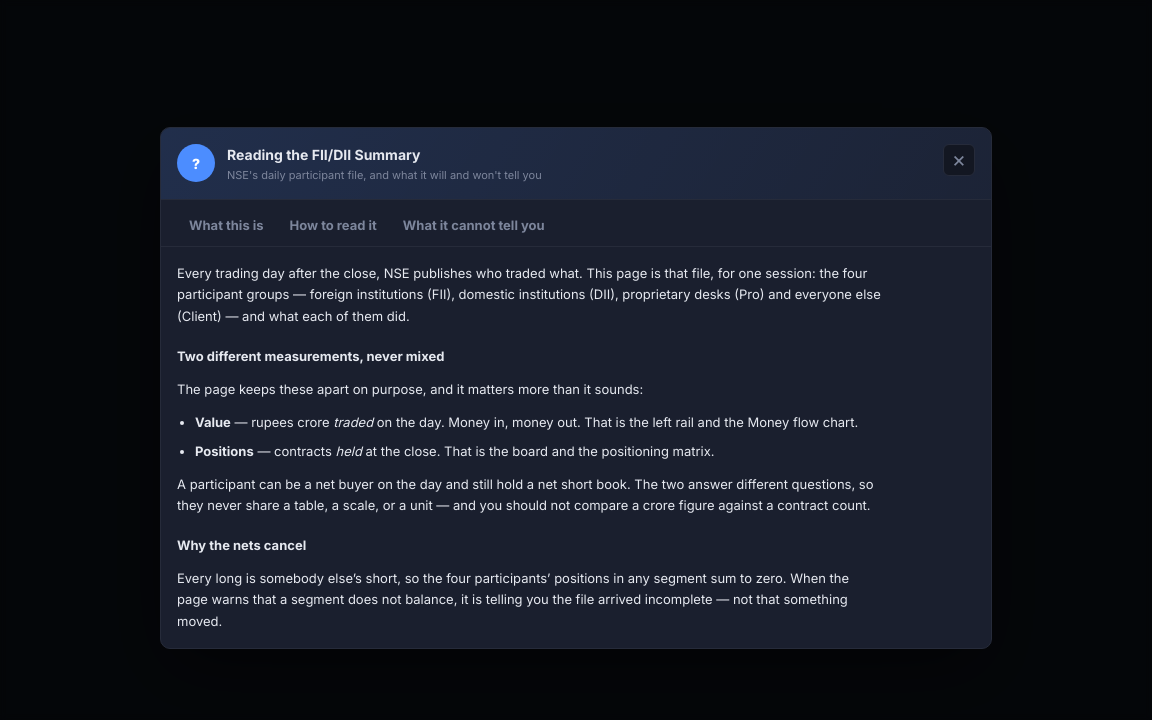
Test: FiiDiiGuide › is honest about what the file cannot answer
Click the tab "What it cannot tell you". click: x=474, y=227
box: [391,208,557,246]
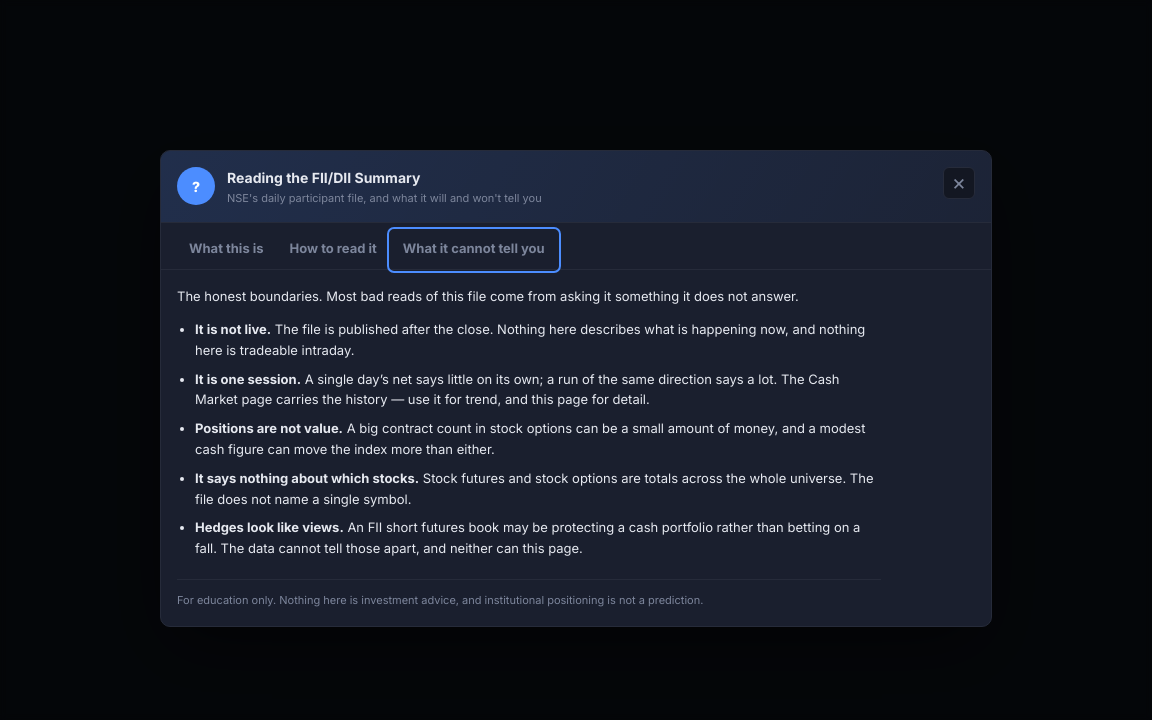
Now the text "It is not live." is shown, box [195,321,271,337]
Now the text "Hedges look like views." is shown, box [195,519,344,535]
